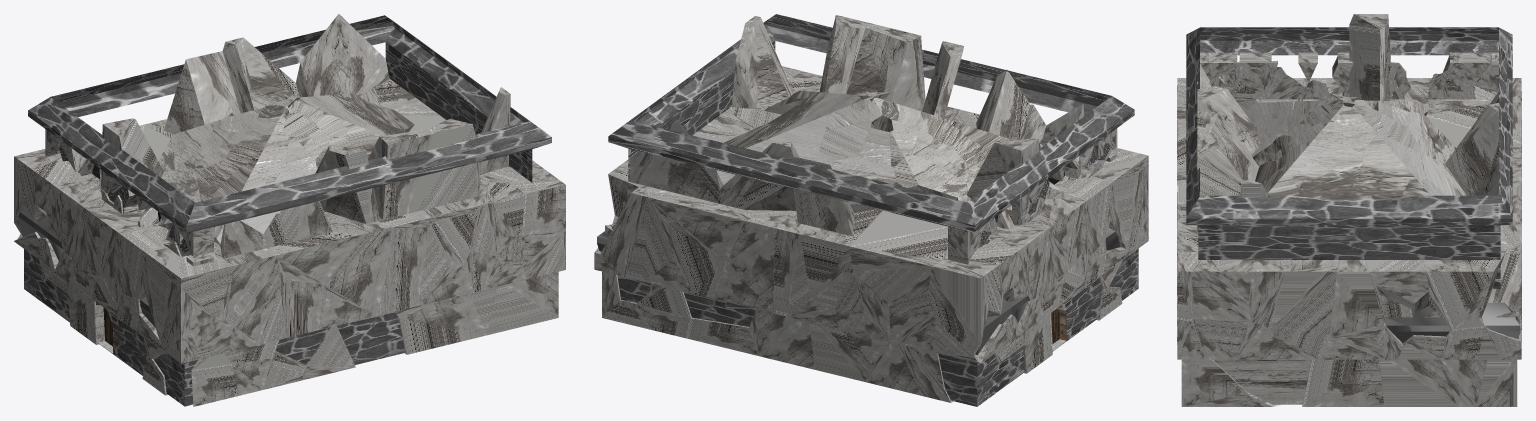
File: Hittites_TownCenter_Semidemolished.fbx
3 views of the same model, side by side, from view 1: azimuth 30°, elevation 25°; view 2: azimuth 150°, elevation 25°; view 3: azimuth 270°, elevation 25° (orthographic). The views are drawn at different scales.
Parts seen in each view (by area): view 1: Plano.009, Plano.011, Plano.007_cell.090, Plano.007_cell.124, Plano.011_cell.232, Plano.007_cell.052, Plano.004, Plano.007_cell.177, Plano.007_cell.153, Plano.007_cell.033, Plano.007_cell.084, Plano.011_cell.236 (+67 smaller); view 2: Plano.009, Plano.011, Plano.007_cell.119, Plano.007_cell.017, Plano.007_cell.138, Plano.007_cell.077, Plano.007_cell.128, Plano.007_cell.090, Plano.007_cell.171, Plano.007_cell.117, Plano.011_cell.212, Plano.007_cell.152 (+62 smaller); view 3: Plano.009, Plano.004, Plano.007_cell.144, Plano.011_cell.242, Plano.007_cell.156, Plano.007_cell.010, Plano.007_cell.162, Plano.011, Plano.011_cell.221, Plano.007_cell.033, Plano.011_cell.236, Plano.007_cell.058 (+64 smaller).
Boxes of the visible parts, x1,y1,x2,y2 form: Plano.009: (28,15,551,232); Plano.011: (24,249,405,406); Plano.007_cell.090: (296,14,389,97); Plano.007_cell.124: (323,221,395,315); Plano.011_cell.232: (398,287,496,354); Plano.007_cell.052: (163,51,240,133); Plano.004: (385,42,532,182); Plano.007_cell.177: (266,211,365,284); Plano.007_cell.153: (392,227,449,311); Plano.007_cell.033: (222,37,298,113); Plano.007_cell.084: (408,118,480,213); Plano.011_cell.236: (487,272,558,335); Plano.009: (608,14,1134,231); Plano.011: (617,248,1138,406); Plano.007_cell.119: (849,210,947,302); Plano.007_cell.017: (846,24,925,111); Plano.007_cell.138: (928,260,988,355); Plano.007_cell.077: (731,16,793,109); Plano.007_cell.128: (800,209,882,305); Plano.007_cell.090: (629,119,723,203); Plano.007_cell.171: (728,215,792,310); Plano.007_cell.117: (773,214,810,316); Plano.011_cell.212: (749,309,814,369); Plano.007_cell.152: (625,190,674,281); Plano.009: (1186,27,1512,225); Plano.004: (1198,225,1500,289); Plano.007_cell.144: (1423,249,1505,329); Plano.011_cell.242: (1302,359,1384,406); Plano.007_cell.156: (1270,266,1337,359); Plano.007_cell.010: (1349,14,1390,100); Plano.007_cell.162: (1329,260,1384,338); Plano.011: (1213,359,1311,404); Plano.011_cell.221: (1379,359,1457,406); Plano.007_cell.033: (1445,103,1498,195); Plano.011_cell.236: (1181,359,1248,406); Plano.007_cell.058: (1191,263,1250,324).
Size of the model in its own units: 1269 by 653 by 954.
6 materials, 6 textured.
